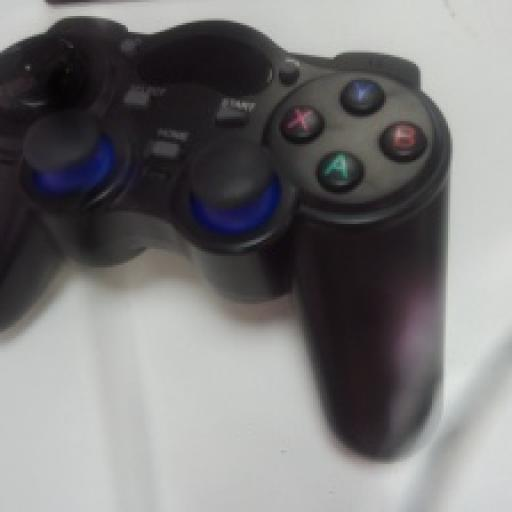game pad: (2, 18, 448, 457)
